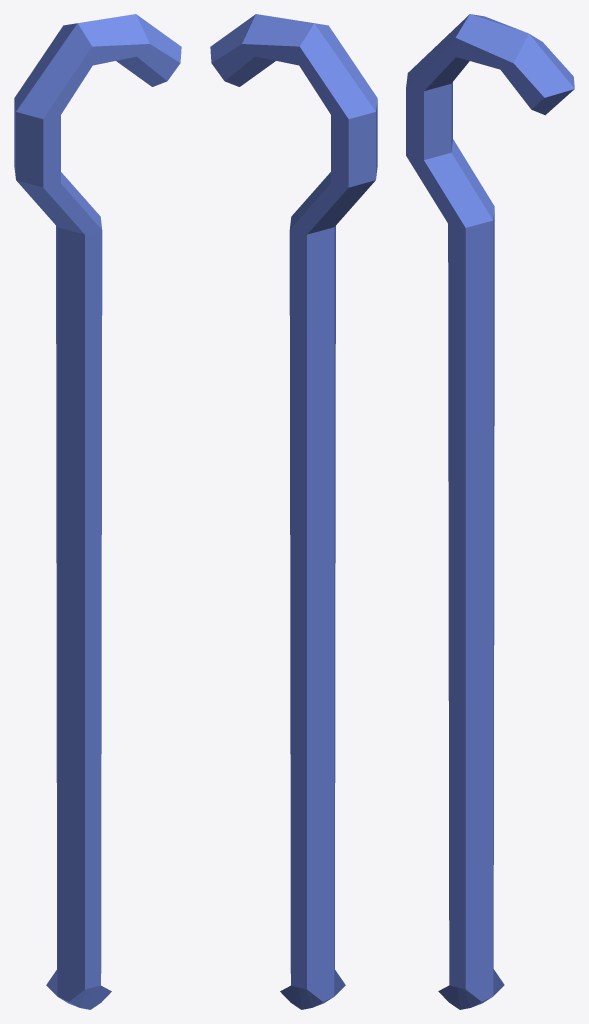
The model's file is staff_blue.fbx.
The picture shows the model from 3 angles, left to right: view 1: azimuth 30°, elevation 25°; view 2: azimuth 150°, elevation 25°; view 3: azimuth 330°, elevation 25°; orthographic projection.
Parts seen in each view (by area): view 1: Cube; view 2: Cube; view 3: Cube.
Part boxes in pixels (x1=…): Cube: x1=14, y1=14, x2=181, y2=1009; Cube: x1=210, y1=14, x2=377, y2=1009; Cube: x1=406, y1=14, x2=574, y2=1009.
Size of the model in its own units: 43.54 by 246 by 13.17.
